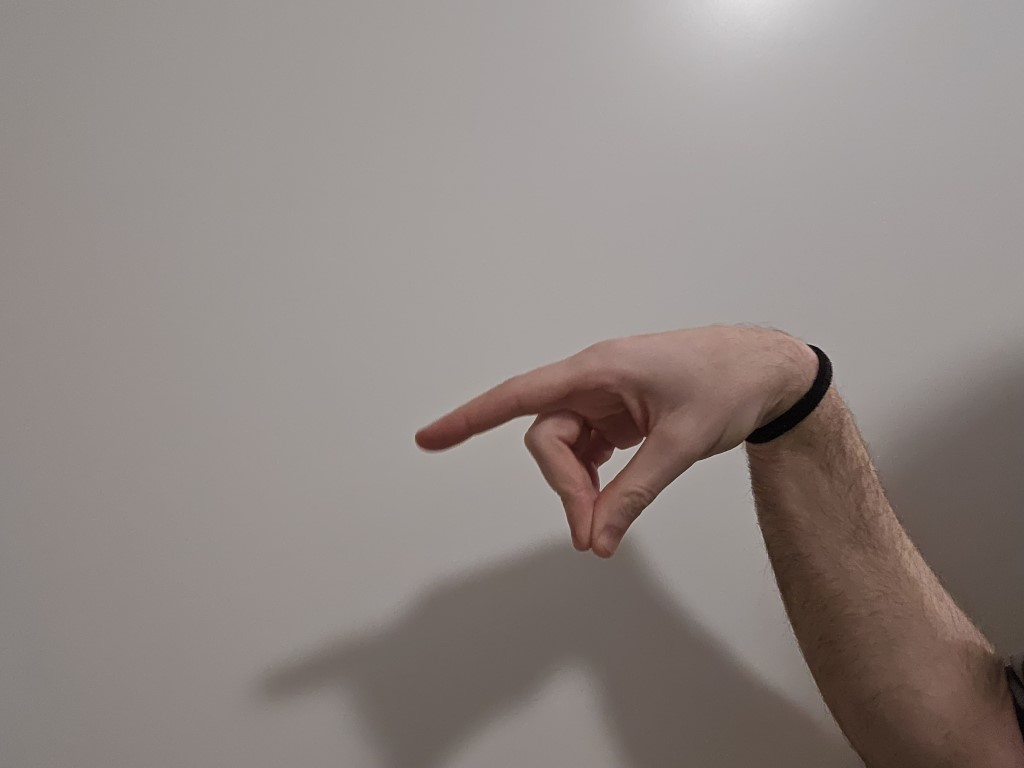p: (386, 311, 755, 565)
